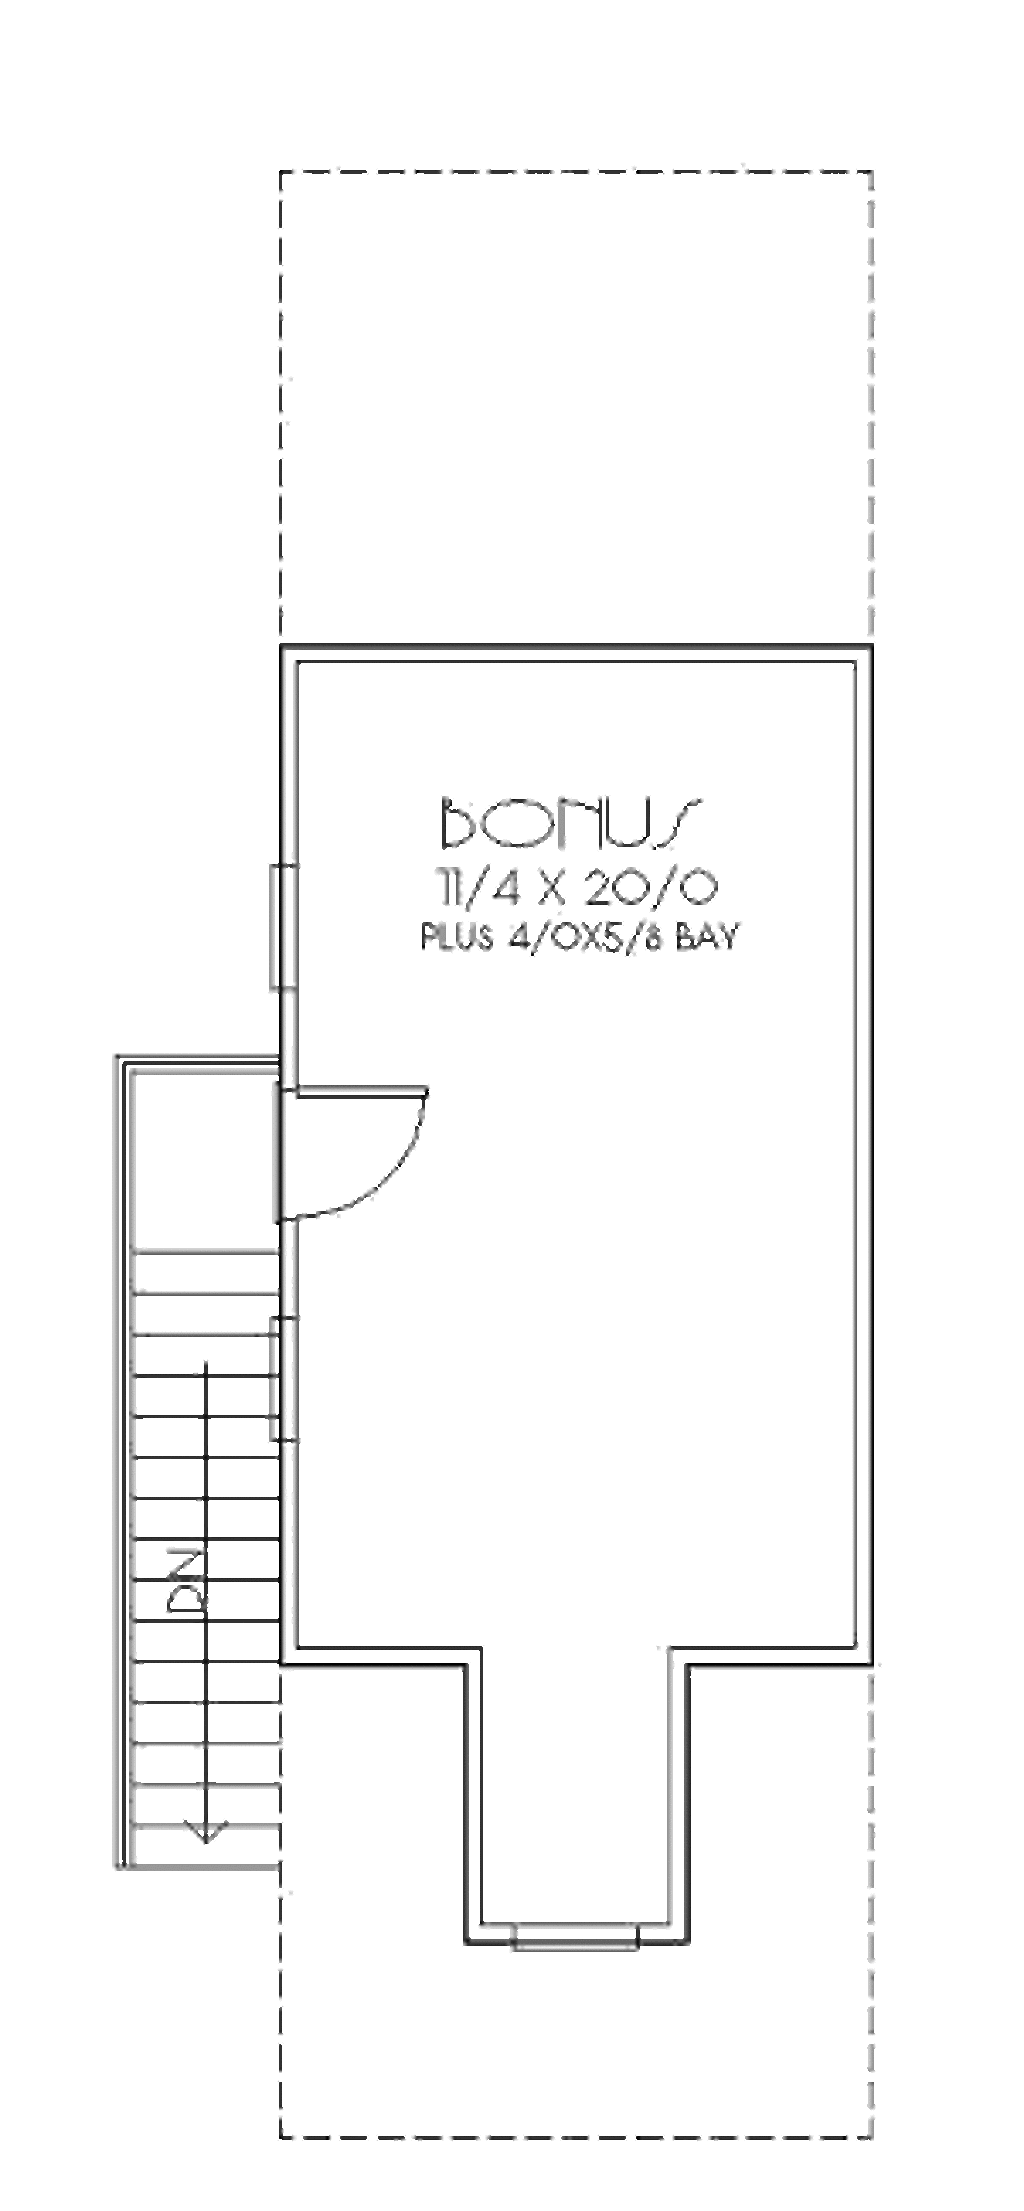door: (285, 1077, 441, 1223)
stairs: (99, 1067, 303, 1878)
window: (258, 833, 306, 1005), (520, 1909, 638, 1971), (272, 1311, 316, 1461)
